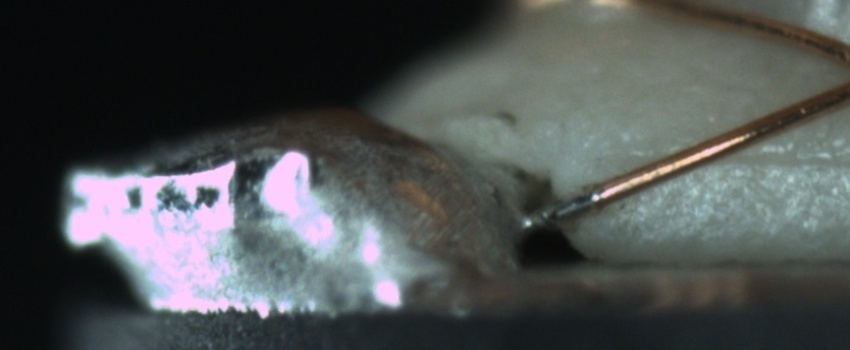CL: (835, 42, 850, 99)
DL: (680, 127, 848, 188)
TS: (522, 191, 602, 227)
TTCW: (519, 184, 611, 229)
